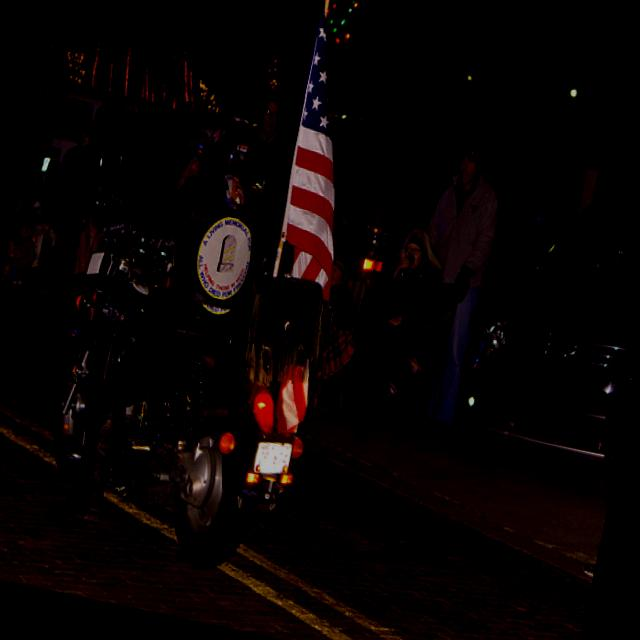Vehicle: (19, 183, 347, 581), (284, 102, 572, 360), (444, 145, 640, 498), (42, 82, 154, 139)
